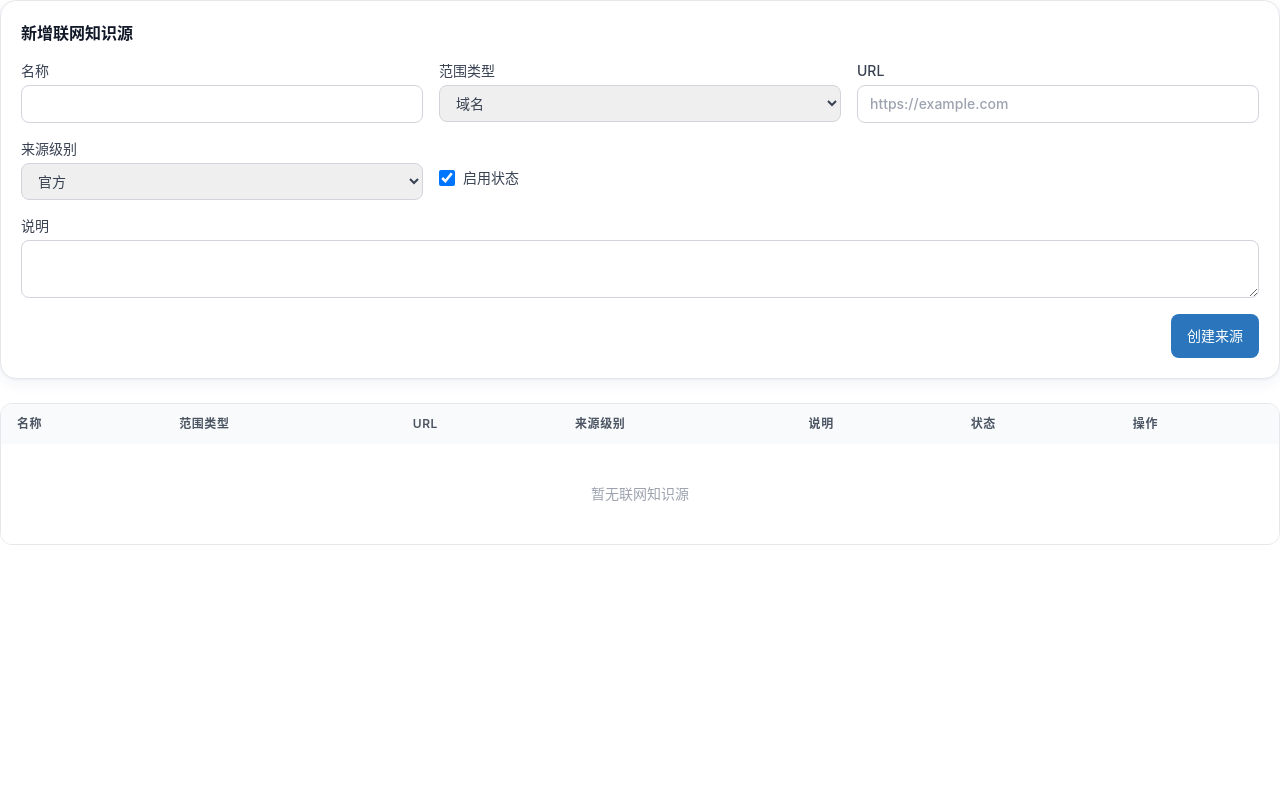
Test case: WebSourceManager › shows backend validation errors
Check: the text "暂无联网知识源" is shown, box [1,444,1279,544]
Type "Unsafe source" into the field labelled "名称" at (222, 104), box [21,85,423,123]
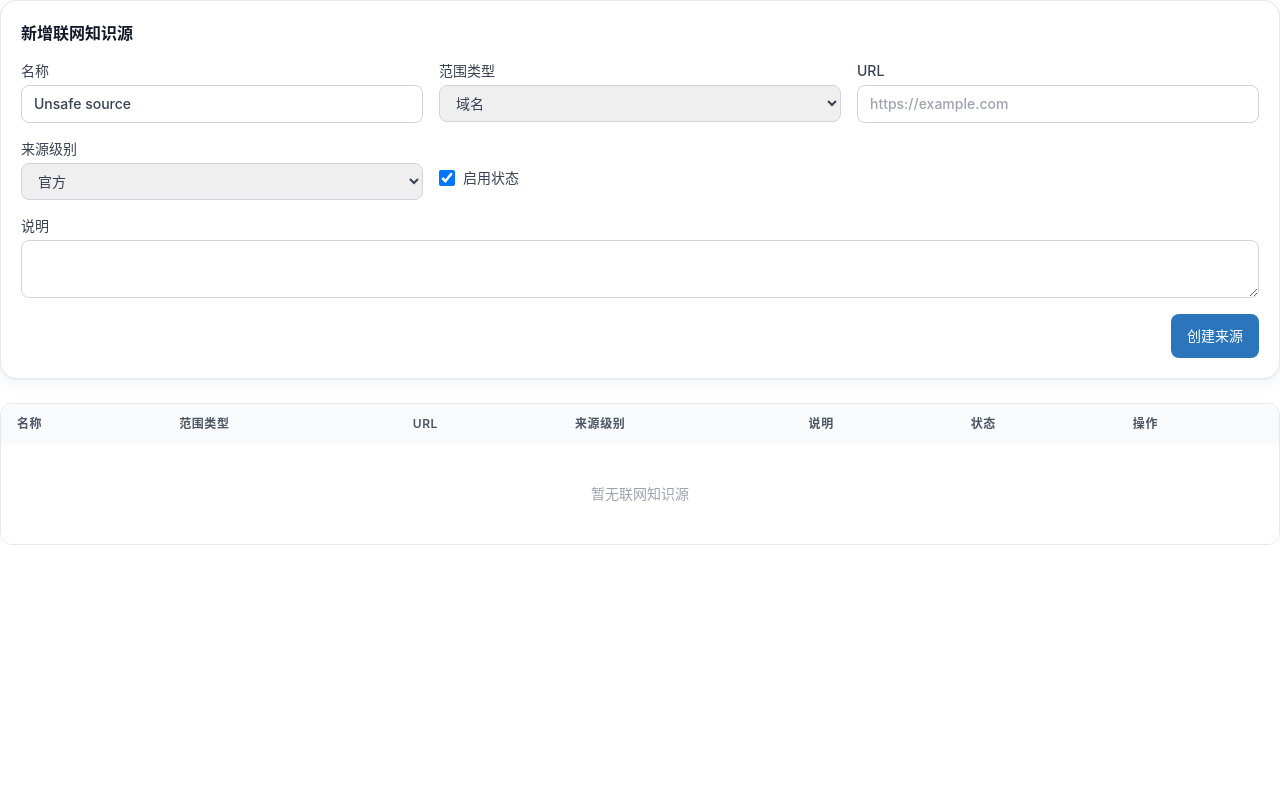
Type "http://example.com" into the field labelled "URL" at (1058, 104), box [857,85,1259,123]
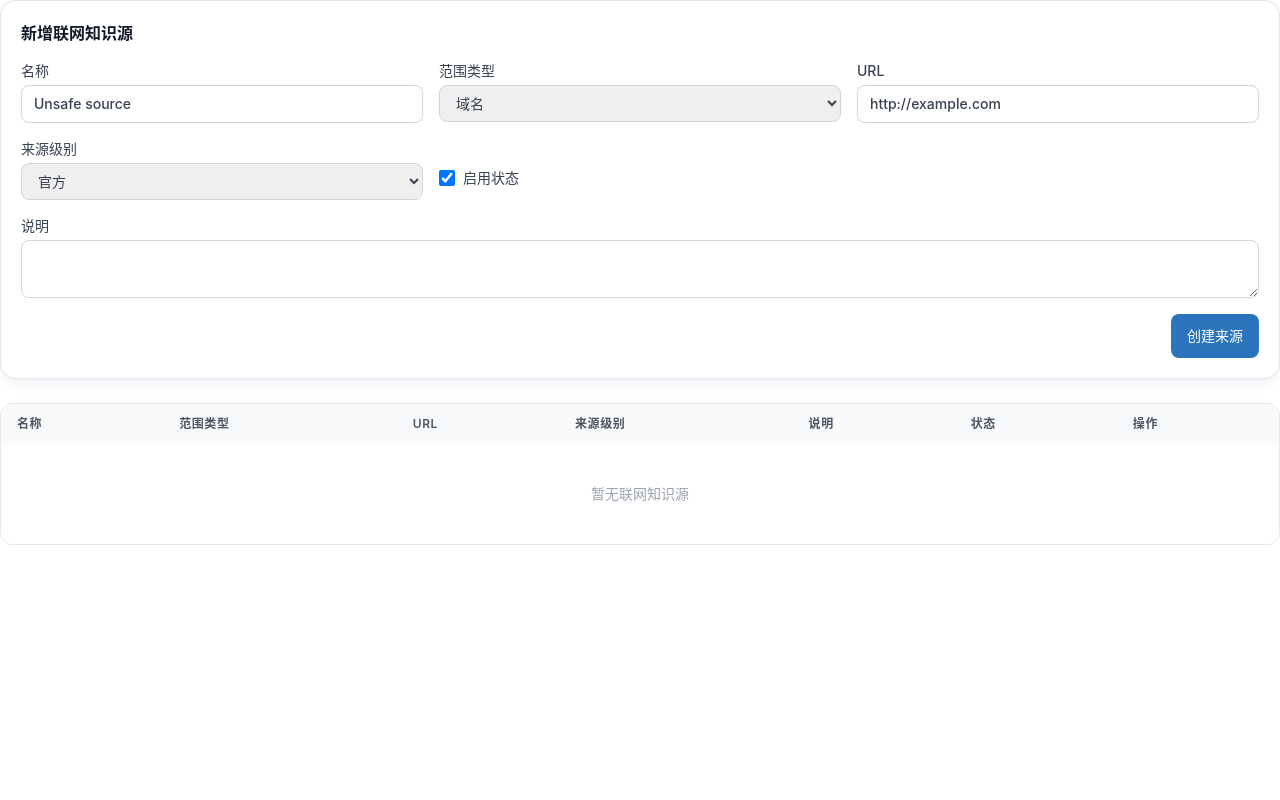
Click the button named "创建 Unsafe source" at (1215, 336), box [1171,314,1259,358]
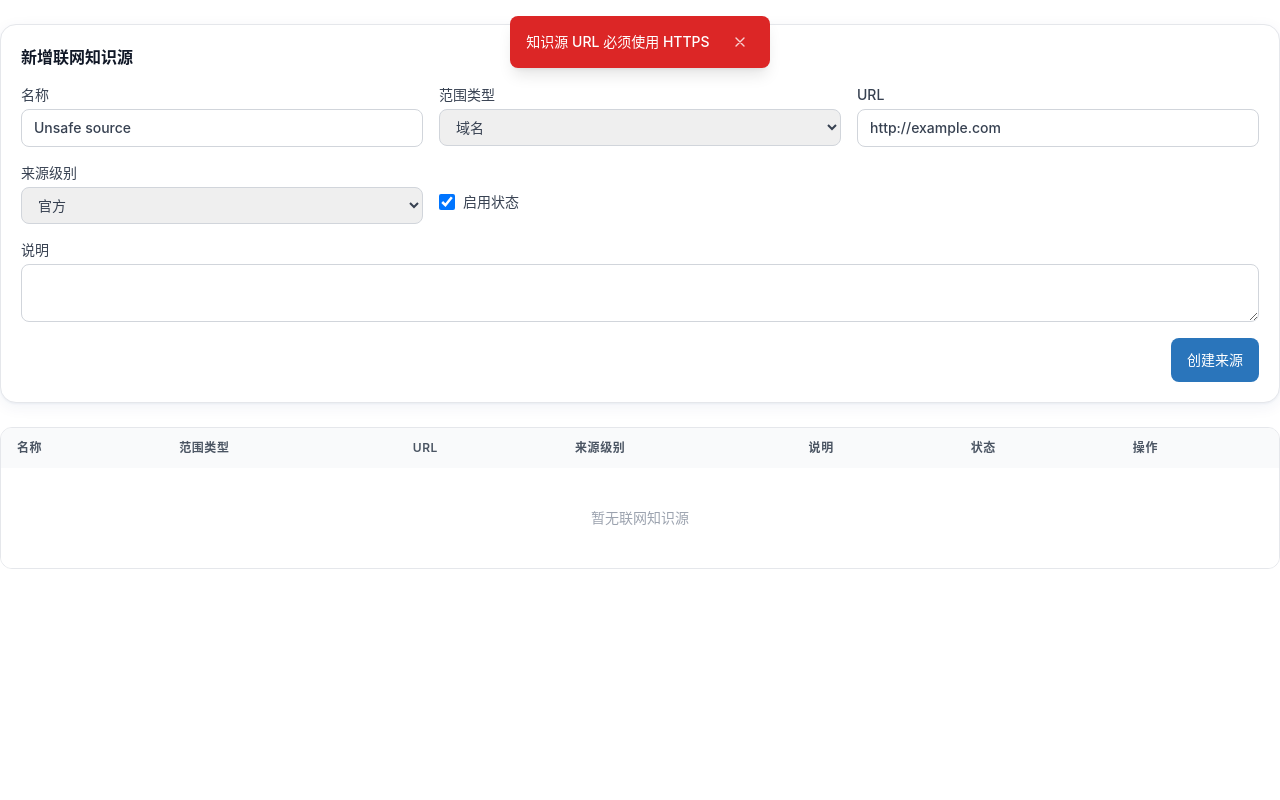
Check: the text "知识源 URL 必须使用 HTTPS" is shown, box [526,32,710,52]
